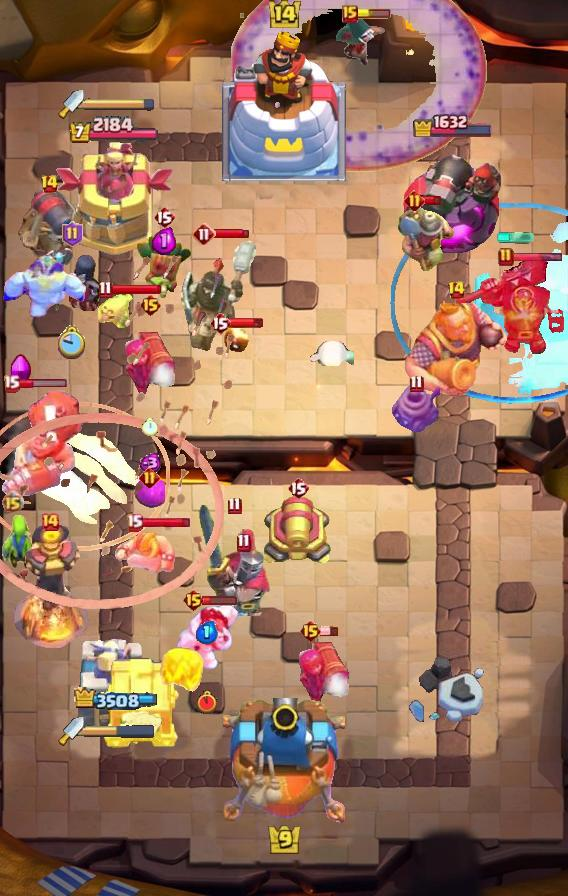bandit: (395, 204, 457, 278)
bar: (54, 142, 173, 256), (77, 637, 151, 731)
bat: (308, 341, 354, 371)
bat-evolution: (96, 294, 136, 328)
bomb: (101, 655, 181, 749)
bomber: (223, 324, 251, 354)
electro-dragon: (11, 522, 89, 648)
electro-spirit: (152, 227, 176, 255), (196, 620, 218, 644), (138, 453, 163, 473)
elixir: (58, 325, 87, 359), (197, 690, 217, 714), (142, 418, 158, 436)
emote: (141, 515, 192, 528), (110, 283, 162, 295), (511, 252, 563, 263), (17, 378, 68, 389), (214, 228, 250, 240), (228, 317, 264, 329), (202, 595, 238, 606), (355, 9, 391, 19), (320, 626, 340, 637), (422, 194, 441, 205)
giant-skeleton: (403, 297, 509, 399)
goblin-barrel: (135, 234, 193, 300)
goblin-drill: (392, 384, 440, 432)
goblin-giant: (115, 527, 177, 575)
ice-spirit: (496, 232, 536, 244)
ice-wizard: (0, 401, 170, 551)
inferno-dragon: (176, 237, 260, 353)
inferno-tower: (454, 254, 568, 354)
king-tower: (222, 31, 346, 181), (223, 698, 345, 826)
king-tower-bar: (84, 97, 156, 111), (84, 724, 156, 738)
mega-minion: (121, 318, 179, 398), (295, 628, 353, 708)
miner: (133, 478, 165, 508)
pad_0: (388, 203, 567, 405)
rage: (0, 253, 88, 321), (174, 604, 240, 672)
rascal-boy: (40, 246, 104, 318)
rocket: (231, 0, 487, 172)
royal-giant-evolution: (15, 186, 83, 256)
royal-recruit: (262, 495, 334, 569)
selected: (68, 115, 160, 144), (412, 111, 494, 137), (71, 687, 156, 711)
skeleton-barrel: (0, 252, 236, 612)
skeleton-king-skill: (10, 354, 32, 388)
tesla: (333, 16, 385, 68)
text: (192, 222, 216, 246), (139, 293, 162, 317), (1, 490, 24, 514), (182, 588, 205, 612), (299, 619, 322, 643), (62, 221, 83, 247), (153, 205, 175, 229), (209, 311, 231, 335), (287, 476, 309, 500), (140, 467, 161, 489), (403, 189, 424, 210), (446, 280, 466, 300), (40, 512, 60, 532), (40, 174, 59, 194), (4, 374, 21, 393), (125, 512, 142, 531), (498, 247, 514, 267), (342, 5, 358, 23), (99, 281, 114, 300), (408, 374, 423, 393), (227, 497, 241, 515)
tower-bar: (403, 138, 503, 256)
valkyrie: (150, 640, 210, 704)
wall-breaker-evolution: (197, 503, 271, 623)
wizard: (0, 387, 86, 497)
zap: (0, 512, 38, 570)
